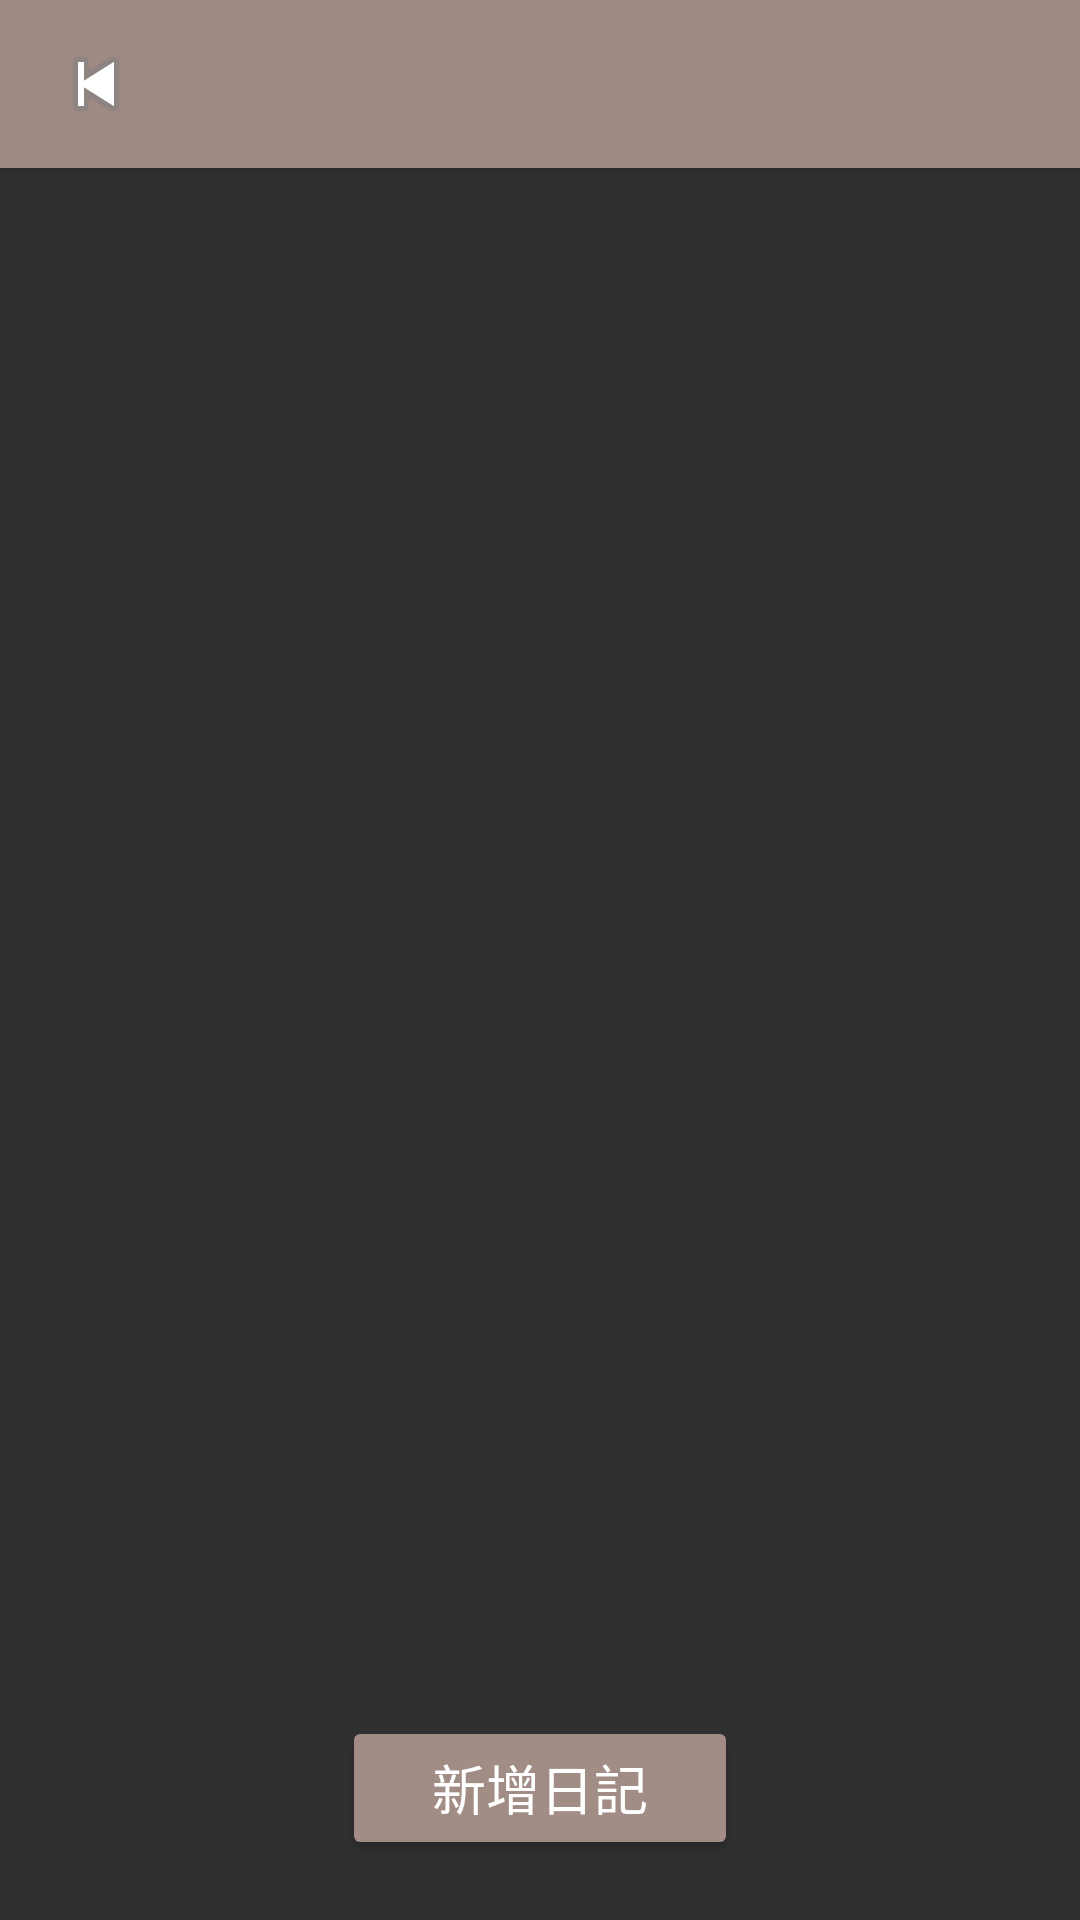

Icons on this 1080x1920 Android screen, each with its box as [x1=x1, y1=y1, x2=x2, y2=y2]:
Back: [x1=78, y1=62, x2=114, y2=106]
